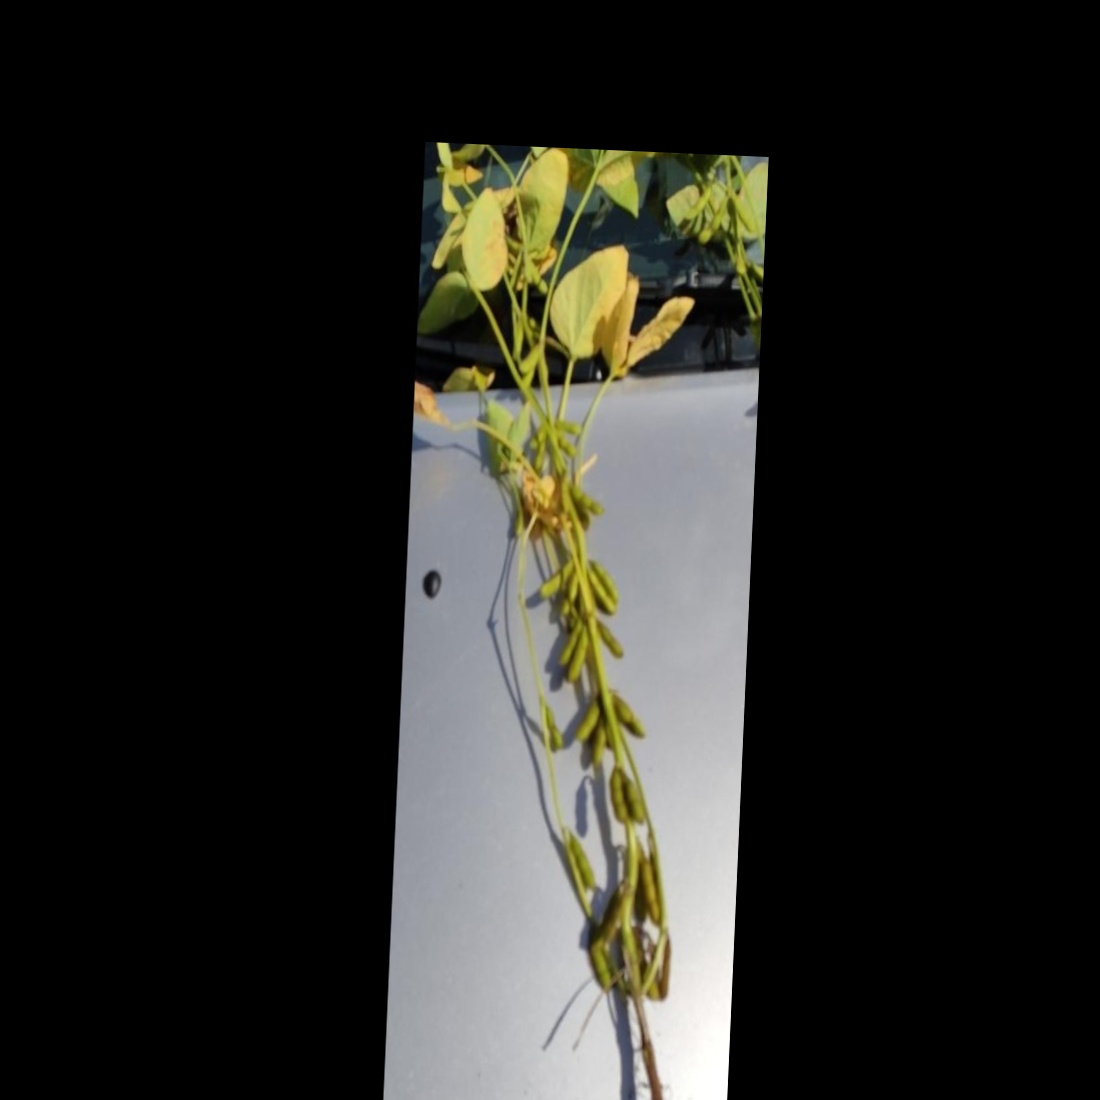pod: (561, 823, 599, 899), (581, 558, 624, 610), (582, 560, 618, 621), (562, 625, 595, 688), (531, 555, 574, 602), (607, 761, 632, 841), (572, 692, 602, 747), (570, 478, 612, 518), (621, 770, 648, 826), (515, 340, 549, 380), (544, 705, 565, 750)
soy: (387, 167, 761, 1100)
